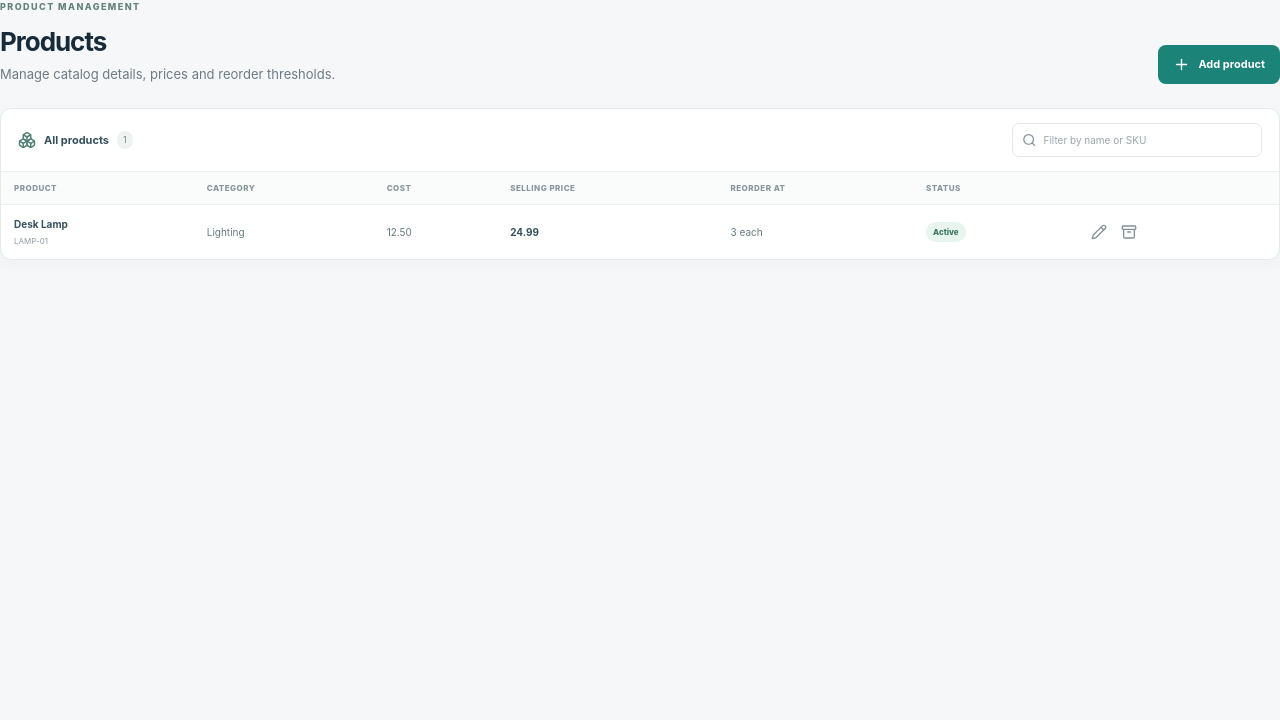
Scenario: ProductsPage › validates required product fields before submitting
The image size is (1280, 720).
Check: the text "Desk Lamp" is shown, box [14,218,68,230]
Step 1. Click the button "Add product" → (1219, 64), box [1158,45,1279,84]
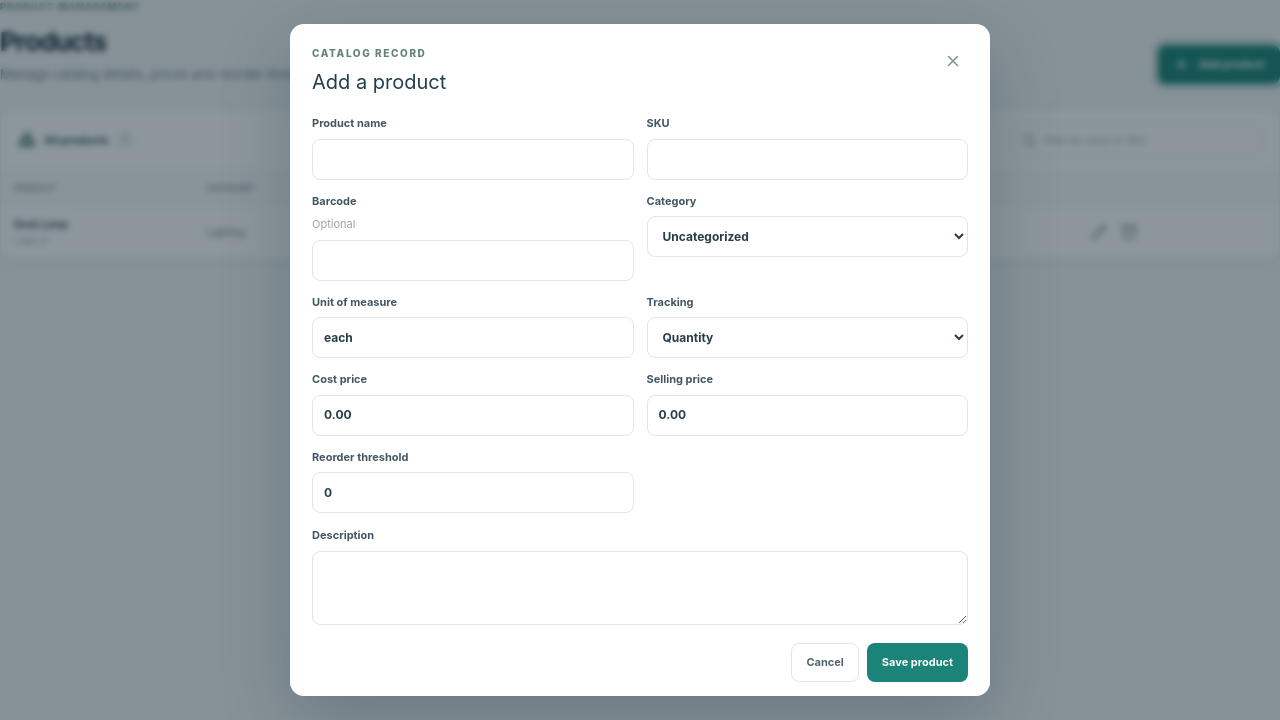
Step 2. Click the button "Save product" → (917, 662), box [867,642,968,682]
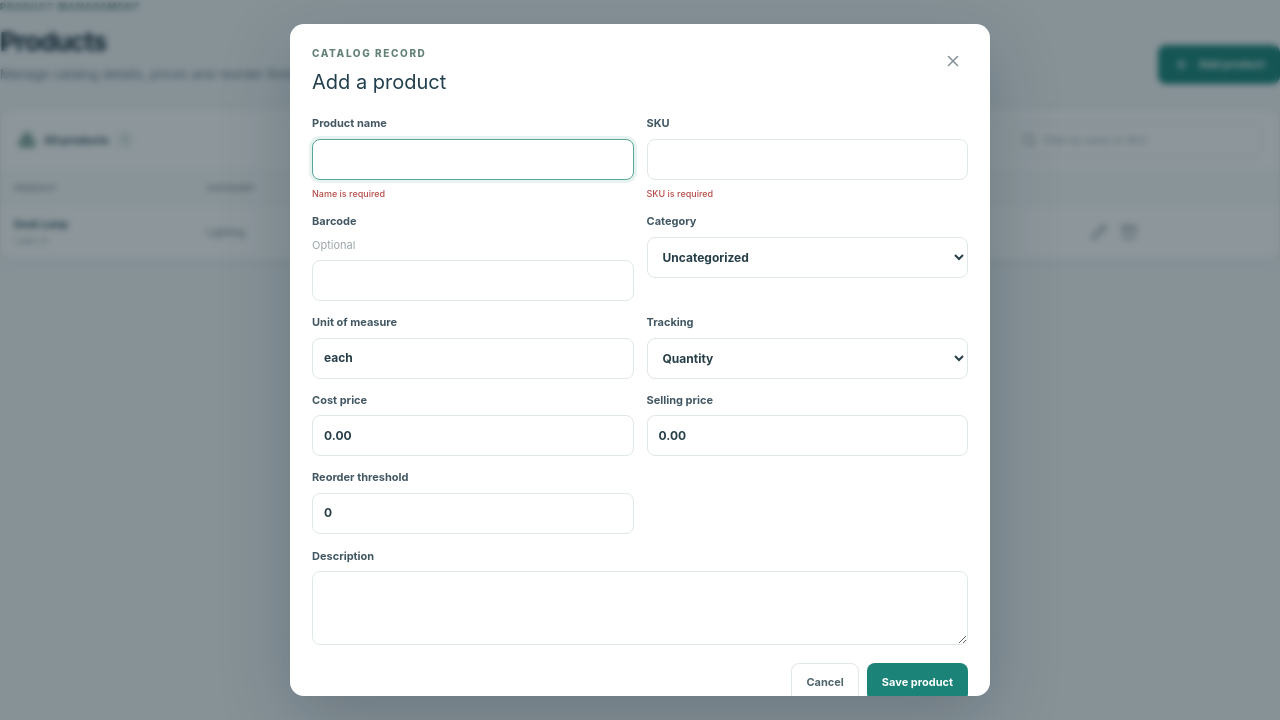
Check: the text "Name is required" is shown, box [312,188,385,198]
Check: the text "SKU is required" is shown, box [646,188,713,198]
